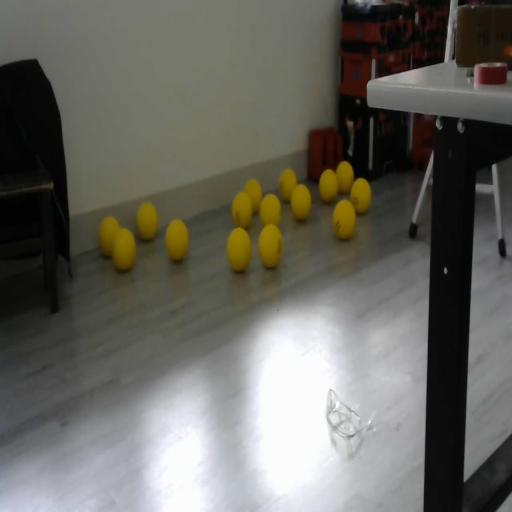FUEL: (226, 225, 252, 273), (257, 222, 284, 268), (164, 218, 189, 262), (98, 214, 122, 257), (135, 200, 159, 242), (332, 198, 356, 240), (258, 192, 282, 228), (242, 177, 264, 216), (290, 183, 312, 221), (350, 177, 371, 214), (318, 167, 338, 203), (336, 160, 354, 193)
